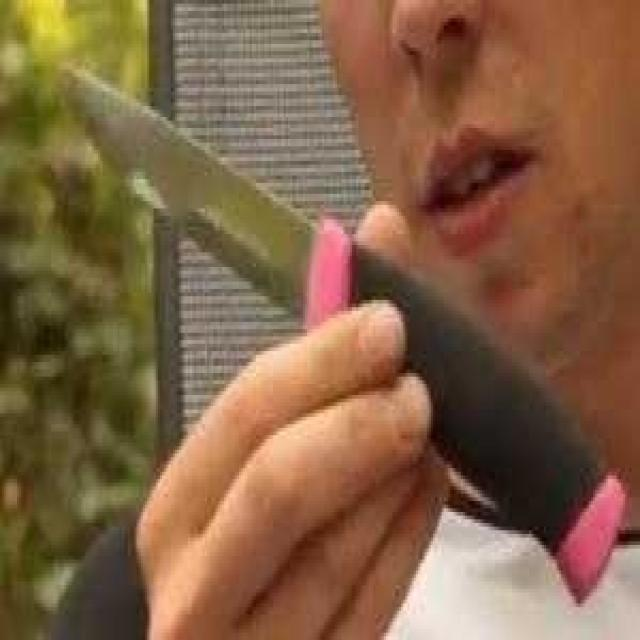Knife: (49, 33, 632, 640)
